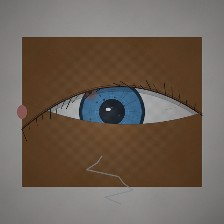foreign_body_visible: (79, 84, 101, 101)
